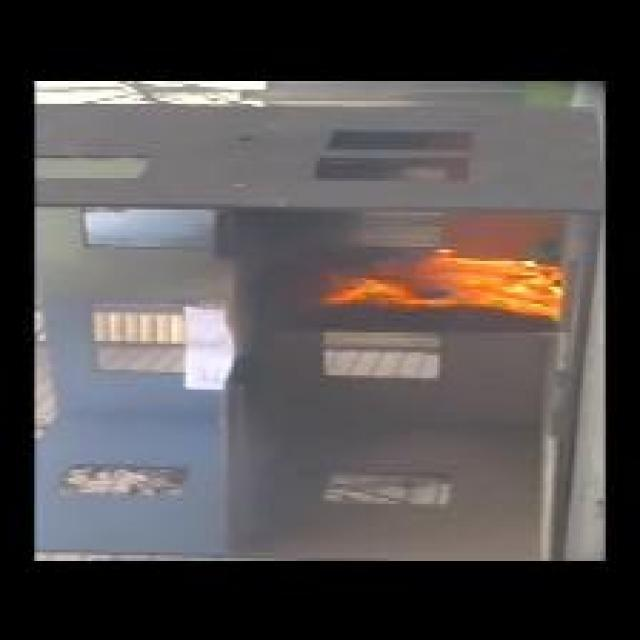Fire: (320, 247, 566, 319)
